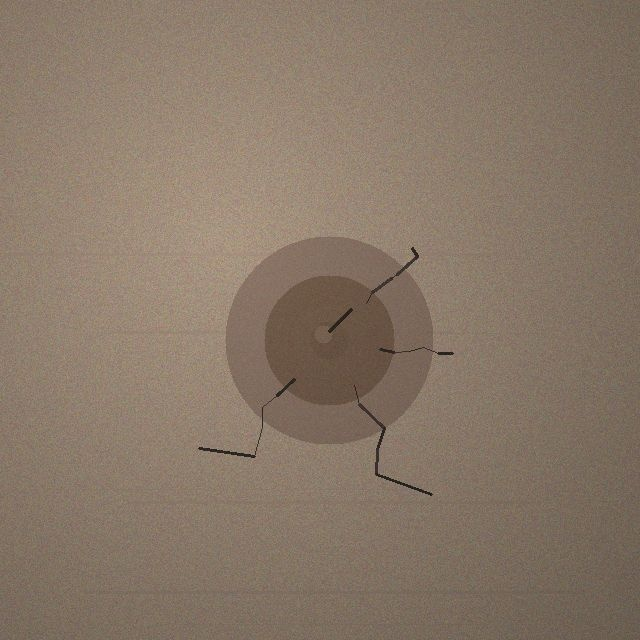crack: (225, 236, 433, 444)
